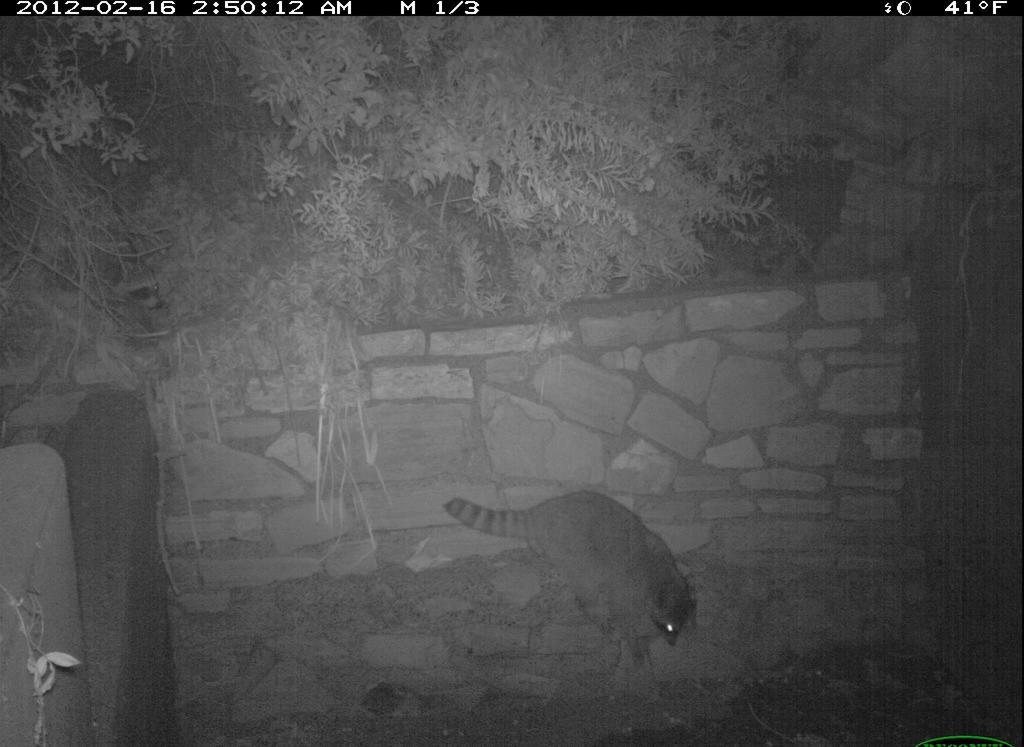raccoon: (437, 483, 705, 678)
